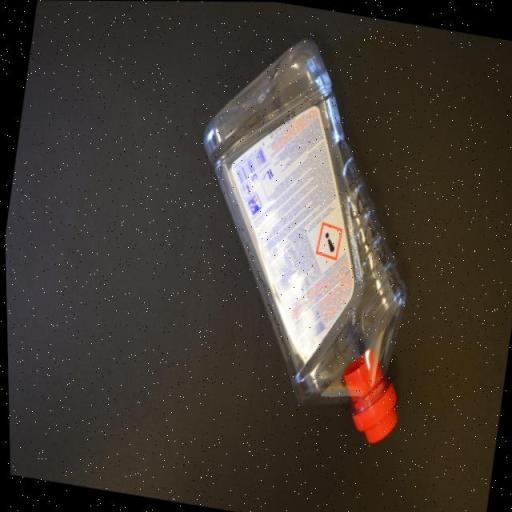plastic: (156, 22, 454, 452)
